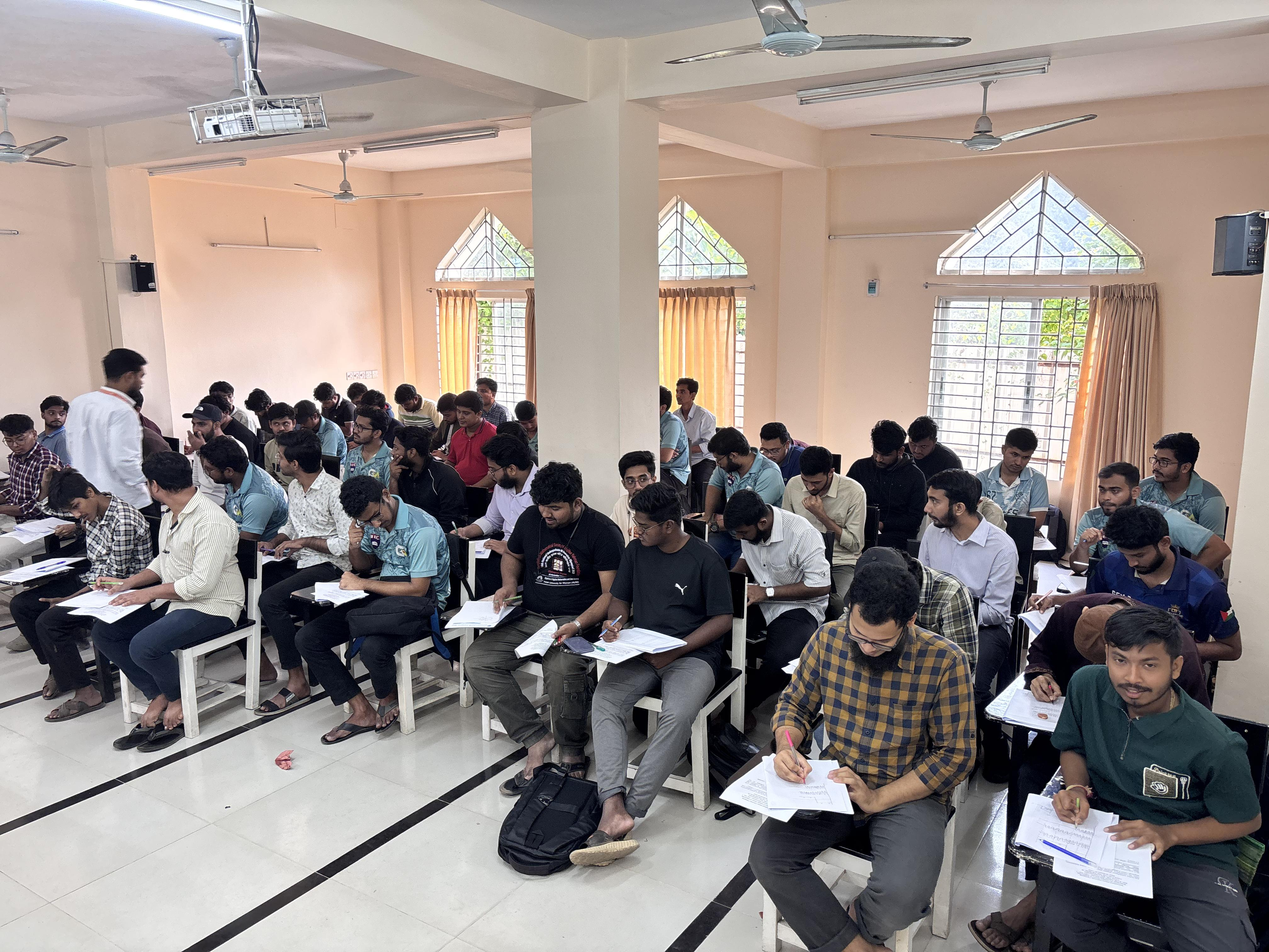copying: (40, 465, 135, 630), (471, 434, 526, 535), (3, 412, 49, 496)
hidden_communication: (699, 425, 754, 499)
invigilator: (69, 339, 152, 512)
no_cheating: (1055, 602, 1235, 855), (783, 566, 949, 812), (506, 458, 613, 688), (324, 475, 438, 637), (610, 482, 698, 681), (267, 427, 338, 582), (1097, 503, 1187, 601), (723, 488, 789, 588), (790, 441, 853, 543), (918, 471, 985, 565), (994, 423, 1054, 504), (862, 419, 908, 508), (1146, 431, 1202, 500), (389, 427, 442, 487), (903, 407, 947, 478), (1089, 459, 1136, 523), (756, 419, 799, 479), (614, 450, 655, 507), (179, 404, 220, 454), (454, 391, 487, 452), (347, 407, 386, 456), (391, 379, 424, 419), (39, 390, 68, 435), (290, 399, 325, 432), (314, 378, 342, 419), (675, 376, 706, 410), (265, 402, 292, 440), (434, 391, 457, 429)
side_talking: (123, 447, 231, 656), (198, 435, 260, 510)
